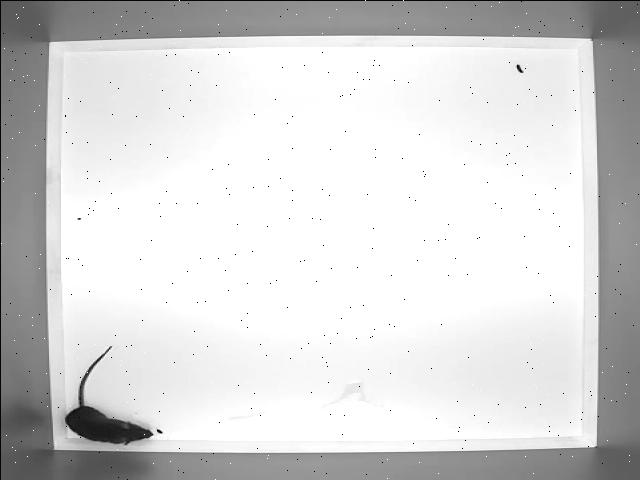Tikus: (51, 346, 158, 446)
